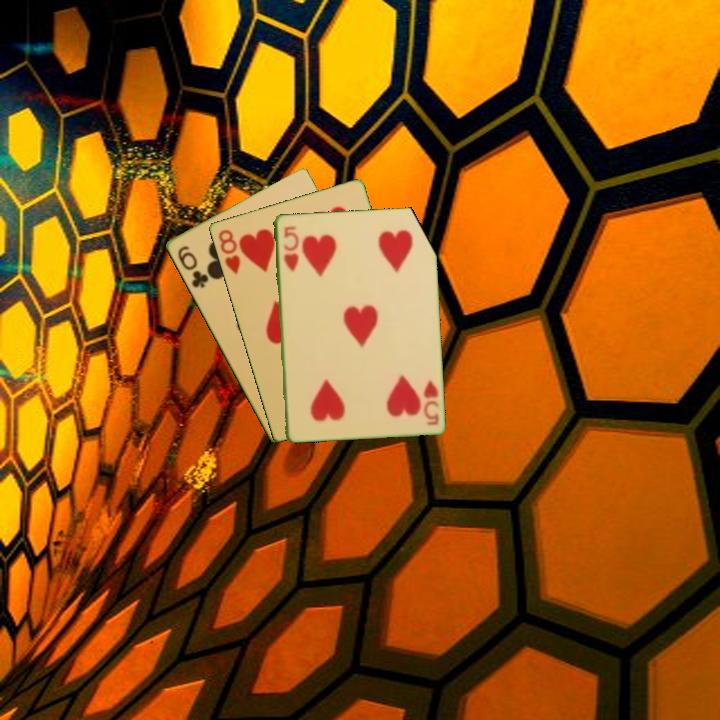5h: (280, 222, 301, 274), (420, 376, 441, 428)
6c: (173, 242, 211, 291)
8h: (214, 226, 243, 277)
